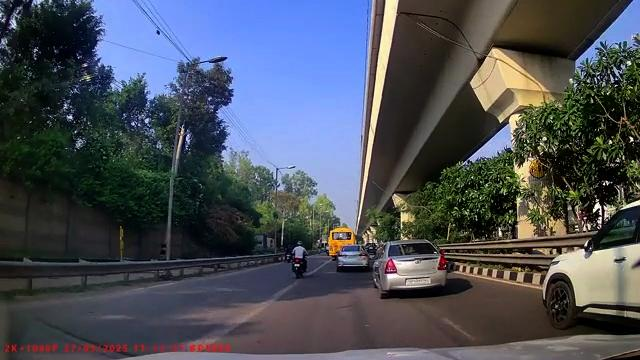motorcycle_with_helmet: (290, 240, 308, 279)
